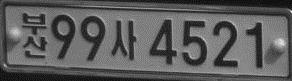1: (244, 21, 270, 68)
2: (211, 20, 239, 68)
4: (148, 18, 176, 64)
5: (180, 19, 208, 67)
9: (50, 14, 76, 59), (79, 14, 105, 59)
부산_V: (21, 12, 47, 58)
사: (110, 18, 139, 61)
